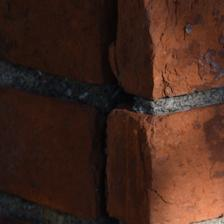Crack: (46, 3, 85, 217)
